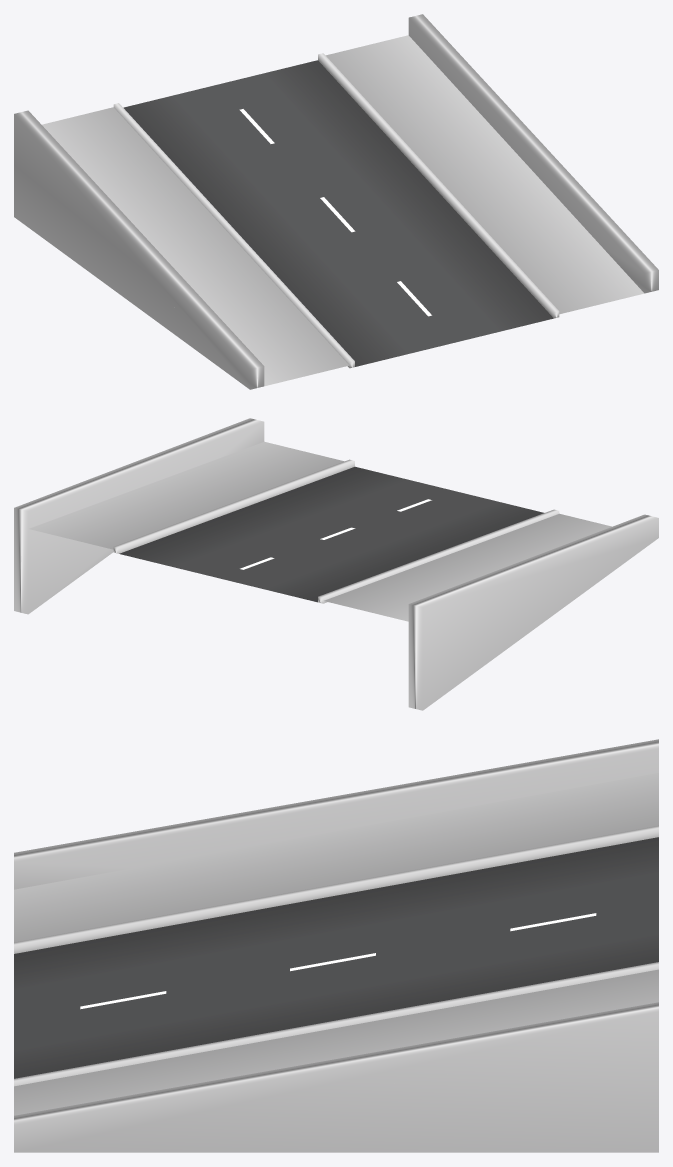
File: road_031.glb
The picture shows the model from 3 angles, top to bottom: view 1: azimuth 30°, elevation 25°; view 2: azimuth 150°, elevation 25°; view 3: azimuth 270°, elevation 25°; orthographic projection. The views are drawn at different scales.
Visible parts, largest first — view 1: road_031; view 2: road_031; view 3: road_031.
Boxes of the visible parts, box(x1,y1,x2,y2) form: road_031: box(14, 14, 658, 389); road_031: box(14, 418, 658, 710); road_031: box(14, 739, 658, 1152).
Size of the model in its own units: 15 by 3.72 by 15.
Materials: 1 (1 with a texture image).
